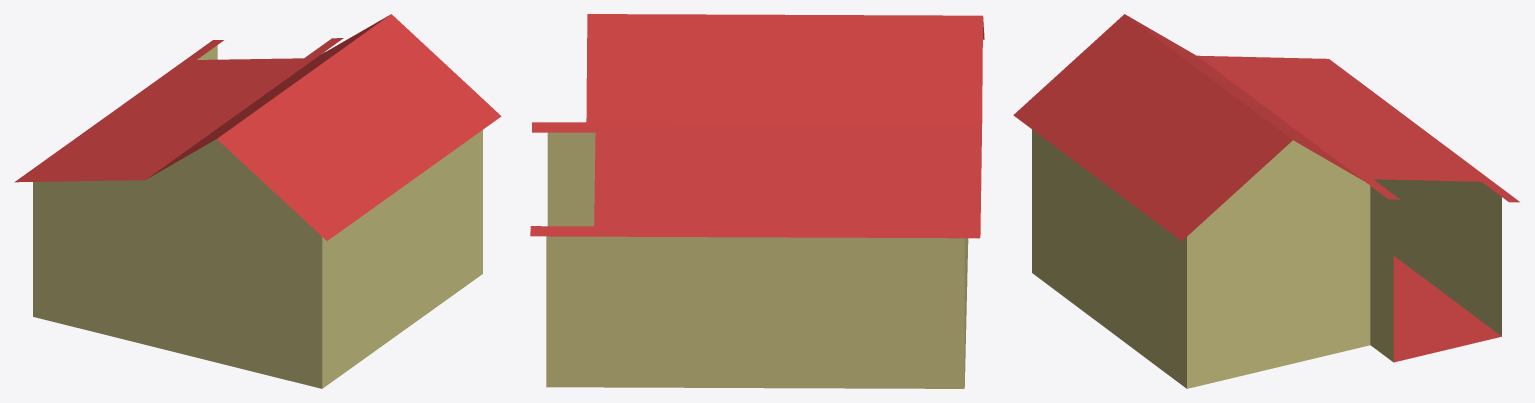
3 renders of one model, left to right at view 1: azimuth 30°, elevation 25°; view 2: azimuth 150°, elevation 25°; view 3: azimuth 270°, elevation 25°, orthographic. The views are drawn at different scales.
Size of the model in its own units: 17.38 by 18.49 by 9.25.
